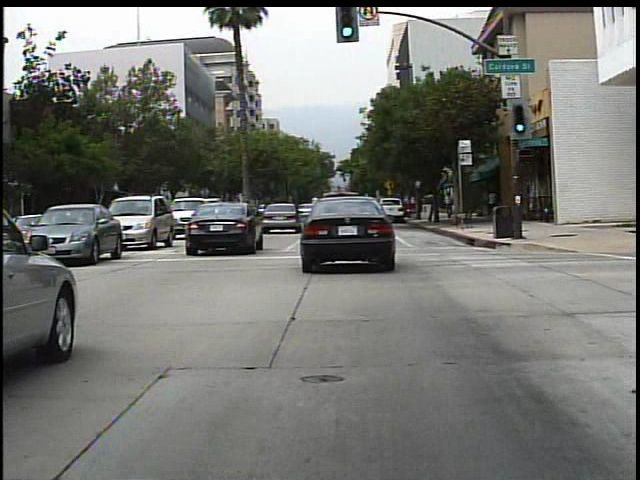person: (440, 190, 460, 223)
